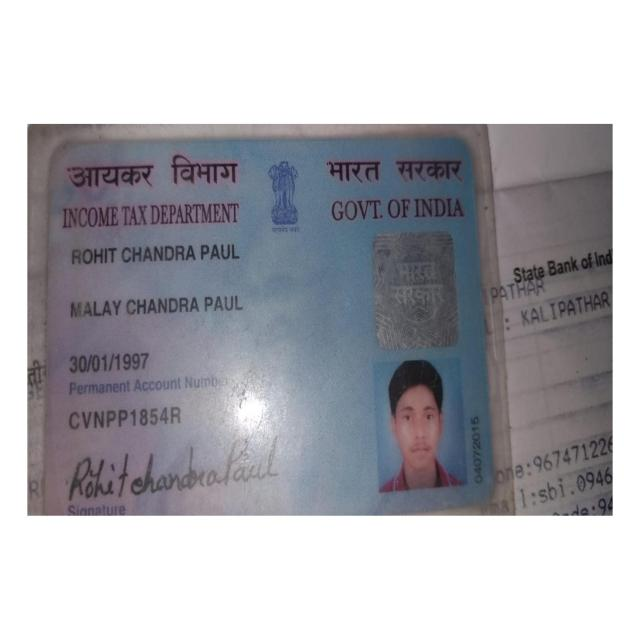pan_card: (43, 144, 494, 516)
